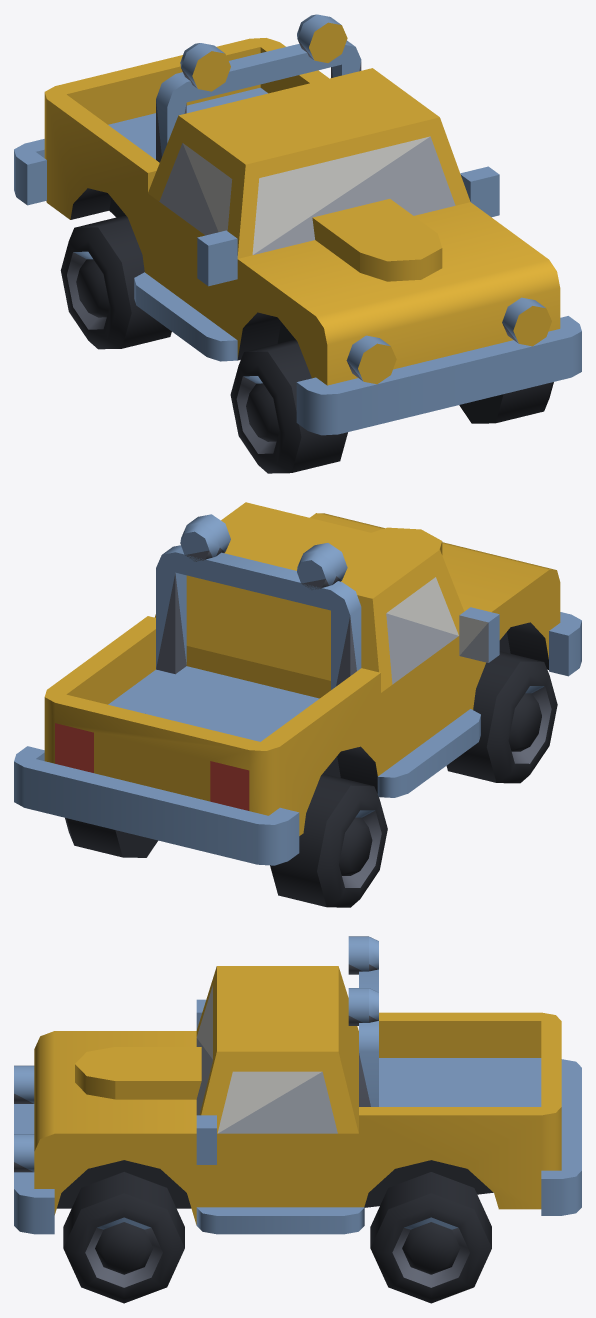
The model's file is vehicle-truck-yellow.glb.
3 renders of one model, top to bottom at view 1: azimuth 30°, elevation 25°; view 2: azimuth 150°, elevation 25°; view 3: azimuth 270°, elevation 25°, orthographic. The views are drawn at different scales.
Visible parts, largest first — view 1: vehicle-truck-yellow; view 2: vehicle-truck-yellow; view 3: vehicle-truck-yellow.
Boxes of the visible parts, x1,y1,x2,y2 form: vehicle-truck-yellow: [14, 14, 581, 473]; vehicle-truck-yellow: [14, 502, 581, 907]; vehicle-truck-yellow: [14, 936, 581, 1303].
Bounding box in the file's own units: 2.55 × 2.63 × 4.76.
